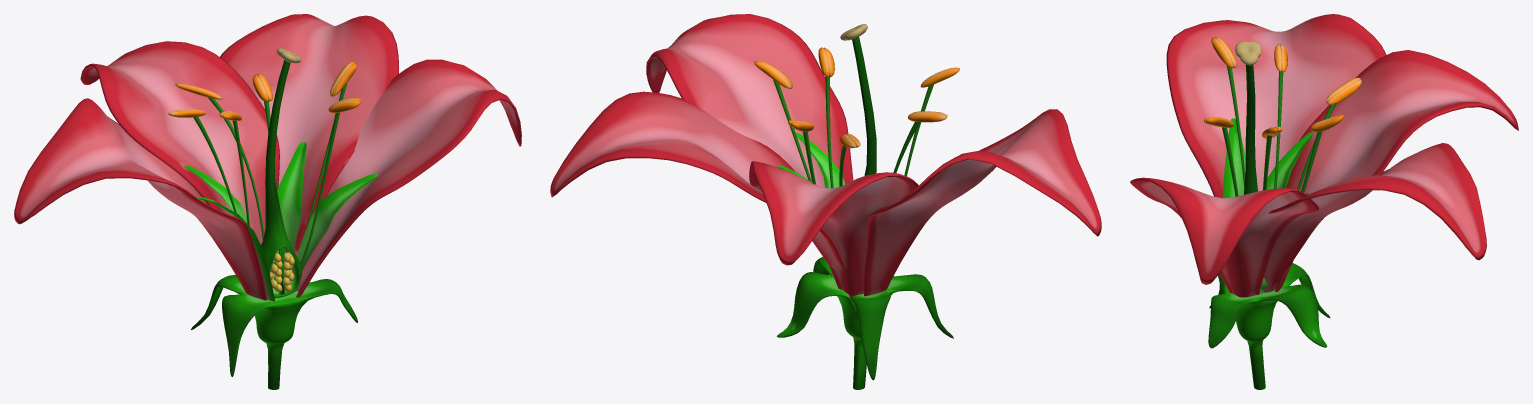
Rendered from hibi3.glb.
3 renders of one model, left to right at view 1: azimuth 30°, elevation 25°; view 2: azimuth 150°, elevation 25°; view 3: azimuth 270°, elevation 25°, orthographic. The views are drawn at different scales.
Parts seen in each view (by area): view 1: fiore; view 2: fiore; view 3: fiore.
Part boxes in pixels (x1=…): fiore: x1=14, y1=14, x2=521, y2=389; fiore: x1=550, y1=14, x2=1101, y2=389; fiore: x1=1130, y1=14, x2=1518, y2=389.
Size of what is drawn, in the model's own units: 0.8783 by 0.6171 by 0.6255.
1 material, 1 textured.
